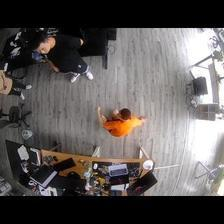fall: (95, 106, 145, 137)
normal: (29, 33, 93, 83)
